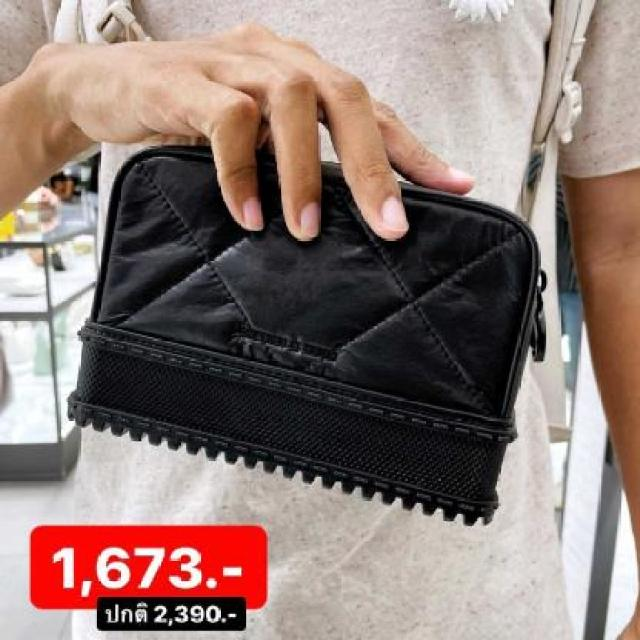Bag: (28, 125, 575, 546)
